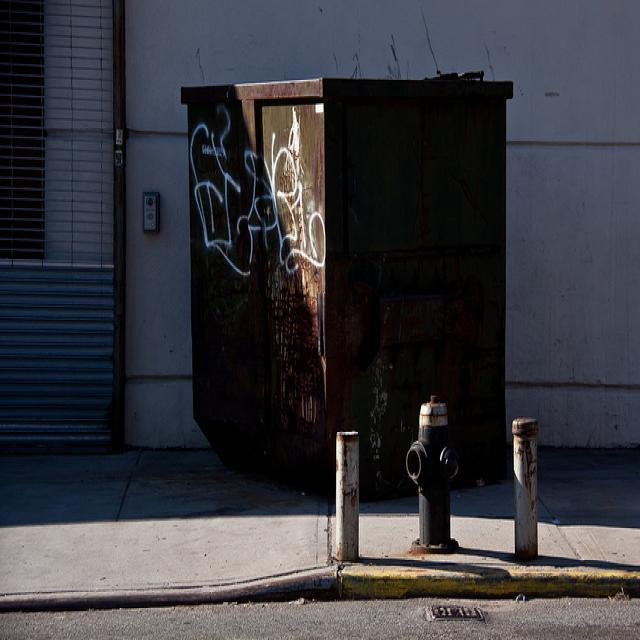fire_hydrant: (404, 396, 451, 548)
